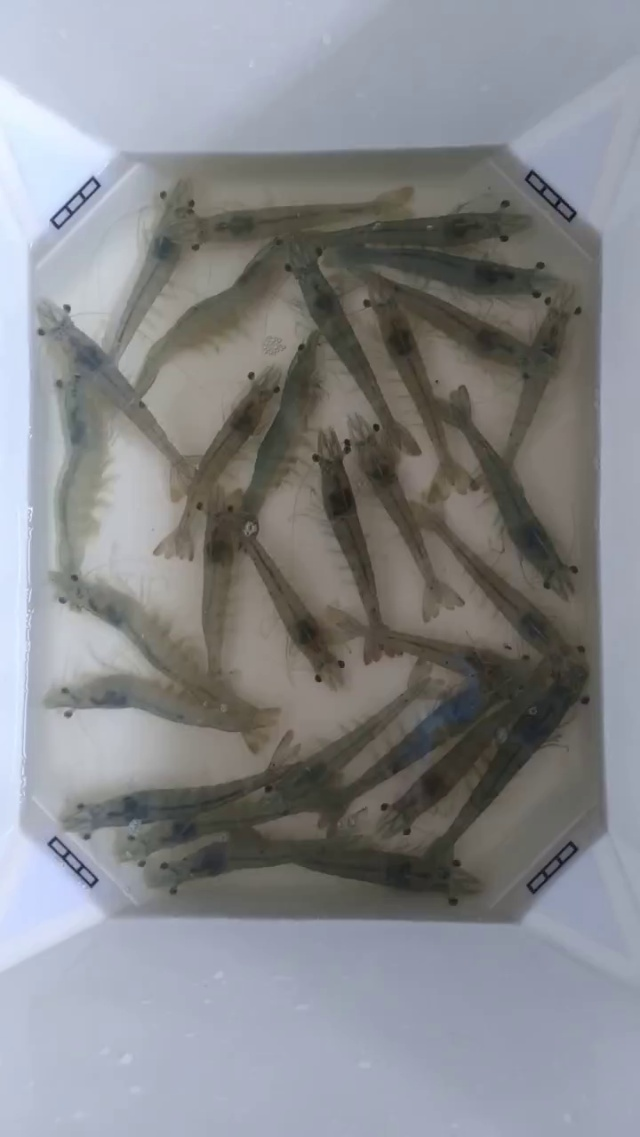shrimp: (548, 143, 639, 486), (544, 410, 639, 735), (189, 414, 298, 628), (11, 598, 121, 799), (0, 470, 82, 737), (573, 496, 639, 798), (121, 178, 242, 339), (327, 690, 426, 886), (155, 395, 255, 559), (23, 764, 136, 909), (317, 188, 426, 335), (70, 323, 181, 466), (143, 778, 258, 908), (182, 162, 273, 304), (268, 561, 364, 692), (339, 343, 420, 494), (453, 542, 559, 654), (518, 170, 584, 312), (0, 196, 34, 438), (388, 437, 470, 526), (312, 417, 361, 549)
